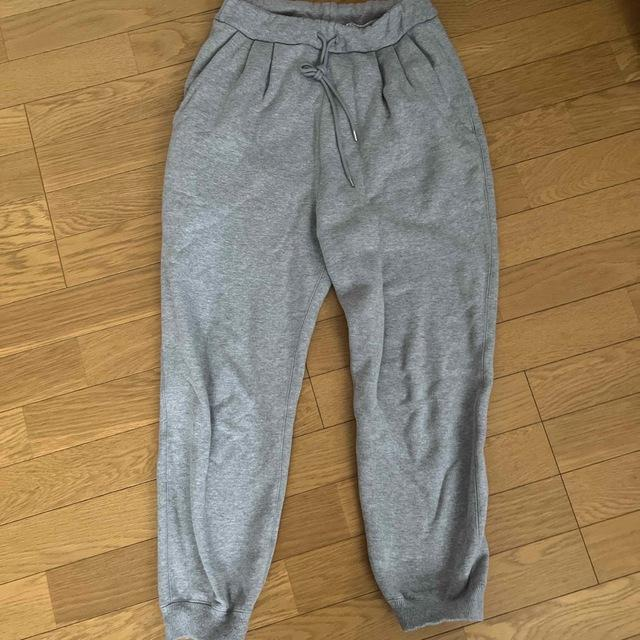long-pants: (157, 0, 498, 640)
